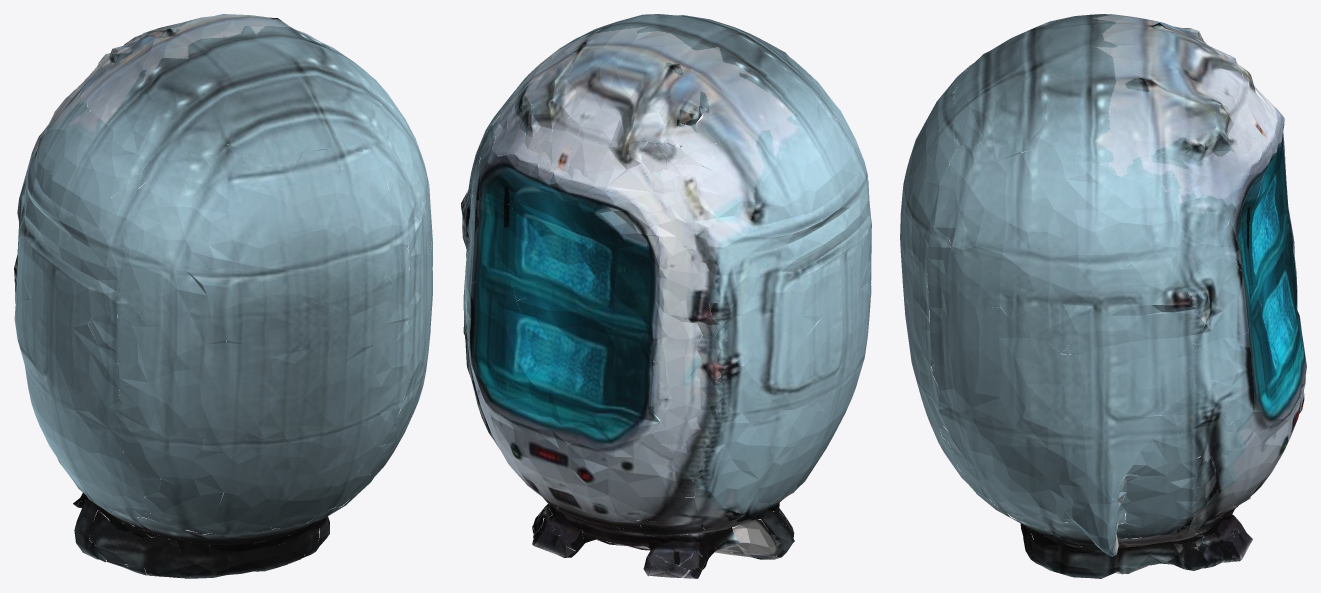
File: cryopod.glb
The picture shows the model from 3 angles, left to right: view 1: azimuth 30°, elevation 25°; view 2: azimuth 150°, elevation 25°; view 3: azimuth 270°, elevation 25°; orthographic projection. The views are drawn at different scales.
Parts seen in each view (by area): view 1: world; view 2: world; view 3: world.
Boxes of the visible parts, x1,y1,x2,y2 form: world: [14, 14, 432, 578]; world: [461, 14, 871, 578]; world: [900, 14, 1306, 578].
Size of the model in its own units: 0.6767 by 0.9202 by 0.6586.
Materials: 1 (1 with a texture image).
